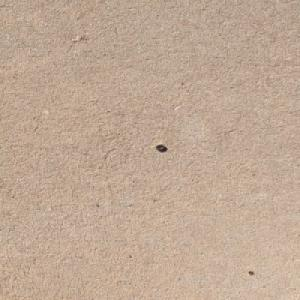Nut: (154, 143, 165, 150)
